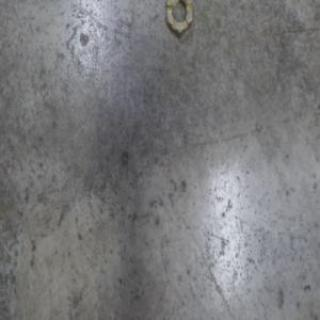Nuttrack_idkeyframe: (164, 0, 193, 42)
